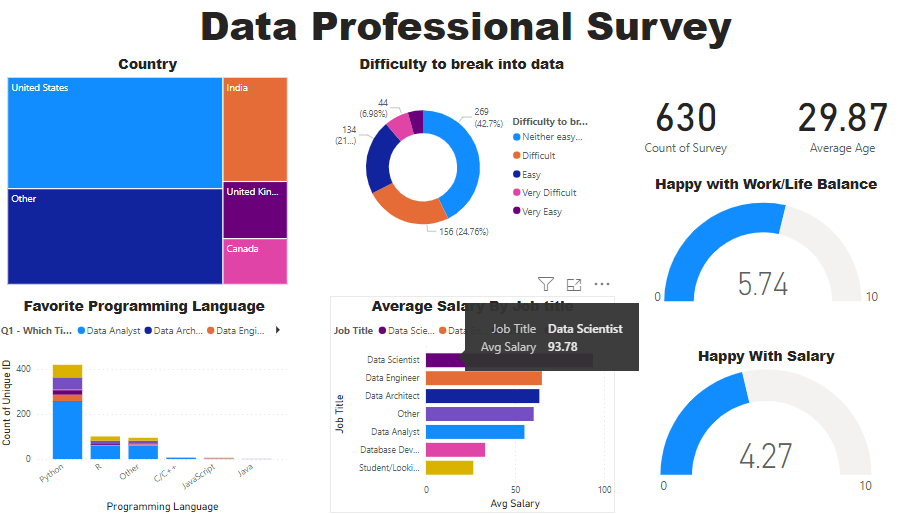

The dashboard page shown, as its layout file describes it:
{"tool":"powerbi","page":{"name":"Page 1","canvas":[1280,720],"ordinal":0},"visuals":[{"type":"textbox","box":[10.1,0,1269.9,99.1],"z":0},{"type":"card","fields":{"Values":["Avg(Data Professional Survey.Q10 - Current Age)"]},"box":[1058.4,99.1,210.6,150],"z":1000},{"type":"card","fields":{"Values":["Count(Data Professional Survey.Unique ID)"]},"box":[836.5,99.1,221.7,149.5],"z":2000},{"type":"barChart","title":"Average Salary By Job title","fields":{"Category":["Data Professional Survey.Q1 - Which Title Best Fits your Current Role?.1"],"Y":["Avg(Data Professional Survey.Avgg Salary)"],"Series":["Data Professional Survey.Q1 - Which Title Best Fits your Current Role?.1"]},"box":[458.3,417,392.3,298.7],"z":3000},{"type":"columnChart","title":"Favorite Programming Language","fields":{"Category":["Data Professional Survey.Q5 - Favorite Programming Language.1"],"Y":["Count(Data Professional Survey.Unique ID)"],"Series":["Data Professional Survey.Q1 - Which Title Best Fits your Current Role?.1"]},"box":[0,417,404.6,302.8],"z":4000},{"type":"treemap","title":"Country","fields":{"Group":["Data Professional Survey.Q11 - Which Country do you live in?.1"],"Values":["CountNonNull(Data Professional Survey.Q11 - Which Country do you live in?.1)"]},"box":[9.6,84,395,322.1],"z":5000},{"type":"gauge","title":"Happy with Work/Life Balance","fields":{"Y":["Avg(Data Professional Survey.Q6 - How Happy are you in your Current Position with the following? (Work/Life Balance))"],"MinValue":["Min(Data Professional Survey.Q6 - How Happy are you in your Current Position with the following? (Work/Life Balance))1"],"MaxValue":["Max(Data Professional Survey.Q6 - How Happy are you in your Current Position with the following? (Work/Life Balance))"]},"box":[894.6,249.1,327.6,192.7],"z":6000},{"type":"gauge","title":"Happy With Salary","fields":{"Y":["Avg(Data Professional Survey.Q6 - How Happy are you in your Current Position with the following? (Salary))"],"MinValue":["Min(Data Professional Survey.Q6 - How Happy are you in your Current Position with the following? (Salary))"],"MaxValue":["Max(Data Professional Survey.Q6 - How Happy are you in your Current Position with the following? (Salary))1"]},"box":[894.6,485.8,327.6,213.3],"z":7000},{"type":"donutChart","title":"Difficulty to break into data","fields":{"Category":["Data Professional Survey.Q7 - How difficult was it for you to break into Data?"],"Y":["CountNonNull(Data Professional Survey.Q7 - How difficult was it for you to break into Data?)"]},"box":[458.3,84,362,284.9],"z":8000}]}

Visuals, with their boxes in screenshot pixels (x1, y1, x2, y2), scaled from the page's 1280x720 canvas onto the 924x514 screenshot:
textbox: bbox(7, 0, 923, 71)
card - Avg(Data Professional Survey.Q10 - Current Age): bbox(764, 71, 916, 178)
card - Count(Data Professional Survey.Unique ID): bbox(604, 71, 764, 177)
"Average Salary By Job title" barChart: bbox(331, 298, 614, 511)
"Favorite Programming Language" columnChart: bbox(0, 298, 292, 513)
"Country" treemap: bbox(7, 60, 292, 290)
"Happy with Work/Life Balance" gauge: bbox(646, 178, 882, 315)
"Happy With Salary" gauge: bbox(646, 347, 882, 499)
"Difficulty to break into data" donutChart: bbox(331, 60, 592, 263)
